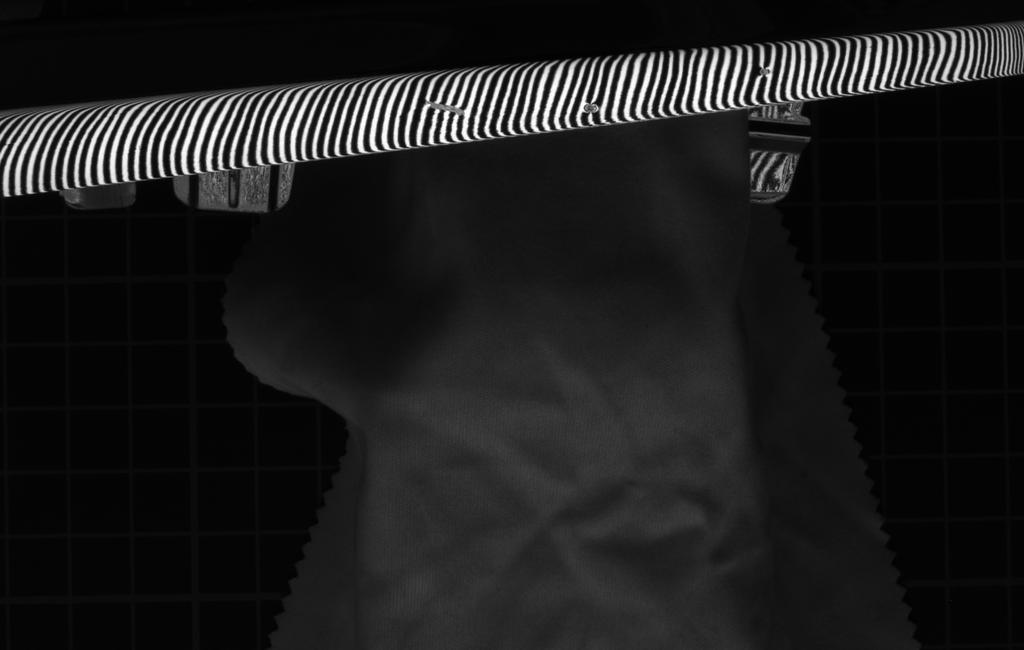Pierced: (578, 98, 609, 117), (753, 60, 776, 82)
Scratch: (414, 93, 477, 123)
